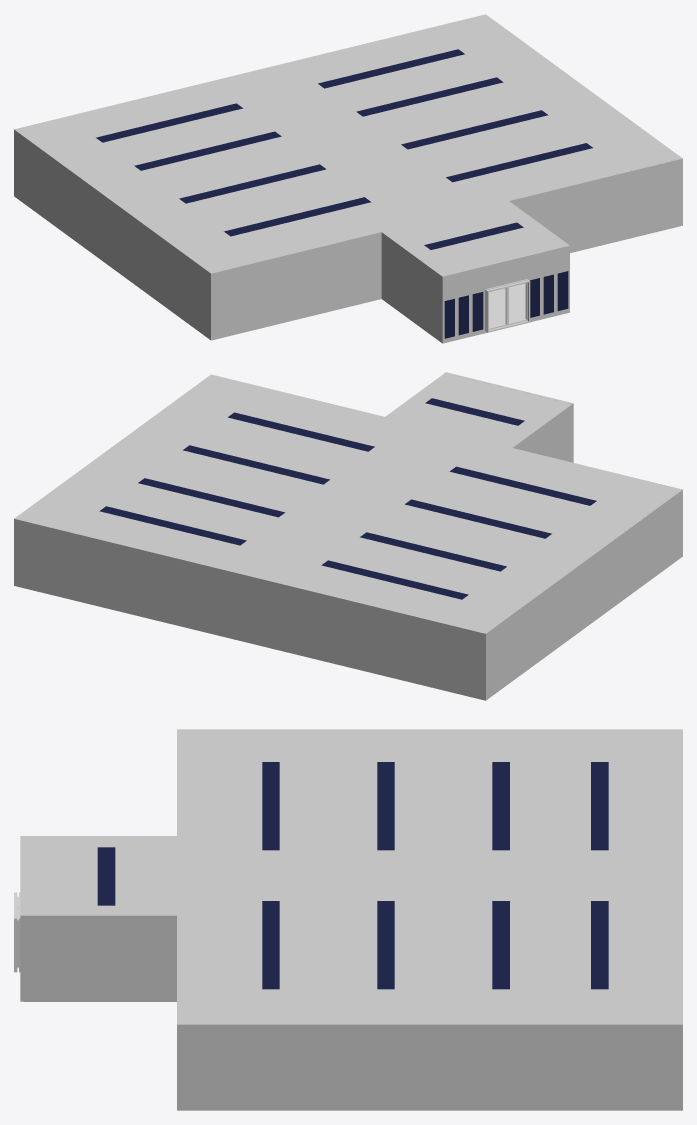
Rendered from LayoutModel.fbx.
3 views of the same model, one above another, from view 1: azimuth 30°, elevation 25°; view 2: azimuth 150°, elevation 25°; view 3: azimuth 270°, elevation 25° (orthographic). The views are drawn at different scales.
Parts seen in each view (by area): view 1: Plane.014, Plane.001, Plane.003, Plane.002, Cube.006, Cube.003, Cube.008, Cube.011, Cube.013, Cube.010, Cube.015, Cube.017 (+2 smaller); view 2: Plane.014, Plane.001, Cube.017, Cube.008, Cube.011, Cube.013, Cube.015, Cube.003, Cube.006, Cube.010, Cube.018; view 3: Plane.014, Plane.001, Cube.003, Cube.006, Cube.008, Cube.010, Cube.011, Cube.013, Cube.015, Cube.017, Cube.018, Plane.003.
Boxes of the visible parts, x1,y1,x2,y2 form: Plane.014: (17, 15, 679, 275); Plane.001: (14, 14, 682, 342); Plane.003: (441, 244, 569, 343); Plane.002: (489, 283, 525, 327); Cube.006: (134, 131, 281, 170); Cube.003: (179, 164, 326, 203); Cube.008: (96, 103, 242, 142); Cube.011: (446, 143, 592, 182); Cube.013: (401, 110, 548, 149); Cube.010: (224, 197, 371, 236); Cube.015: (356, 77, 503, 116); Cube.017: (318, 49, 464, 88); Plane.014: (17, 373, 679, 632); Plane.001: (14, 373, 682, 700); Cube.017: (99, 506, 246, 545); Cube.008: (321, 560, 468, 599); Cube.011: (228, 412, 374, 451); Cube.013: (183, 445, 329, 484); Cube.015: (138, 478, 285, 517); Cube.003: (405, 499, 551, 538); Cube.006: (360, 532, 506, 571); Cube.010: (450, 466, 596, 505); Cube.018: (425, 398, 524, 425); Plane.014: (23, 730, 680, 1023); Plane.001: (23, 729, 682, 1110); Cube.003: (377, 762, 394, 850); Cube.006: (492, 762, 509, 850); Cube.008: (591, 762, 608, 850); Cube.010: (262, 762, 279, 850); Cube.011: (262, 901, 279, 989); Cube.013: (377, 901, 394, 989); Cube.015: (492, 901, 509, 989); Cube.017: (591, 901, 608, 989); Cube.018: (97, 847, 115, 905); Plane.003: (20, 836, 23, 1001).
Bounding box in the file's own units: 4253 × 579 × 4069.
